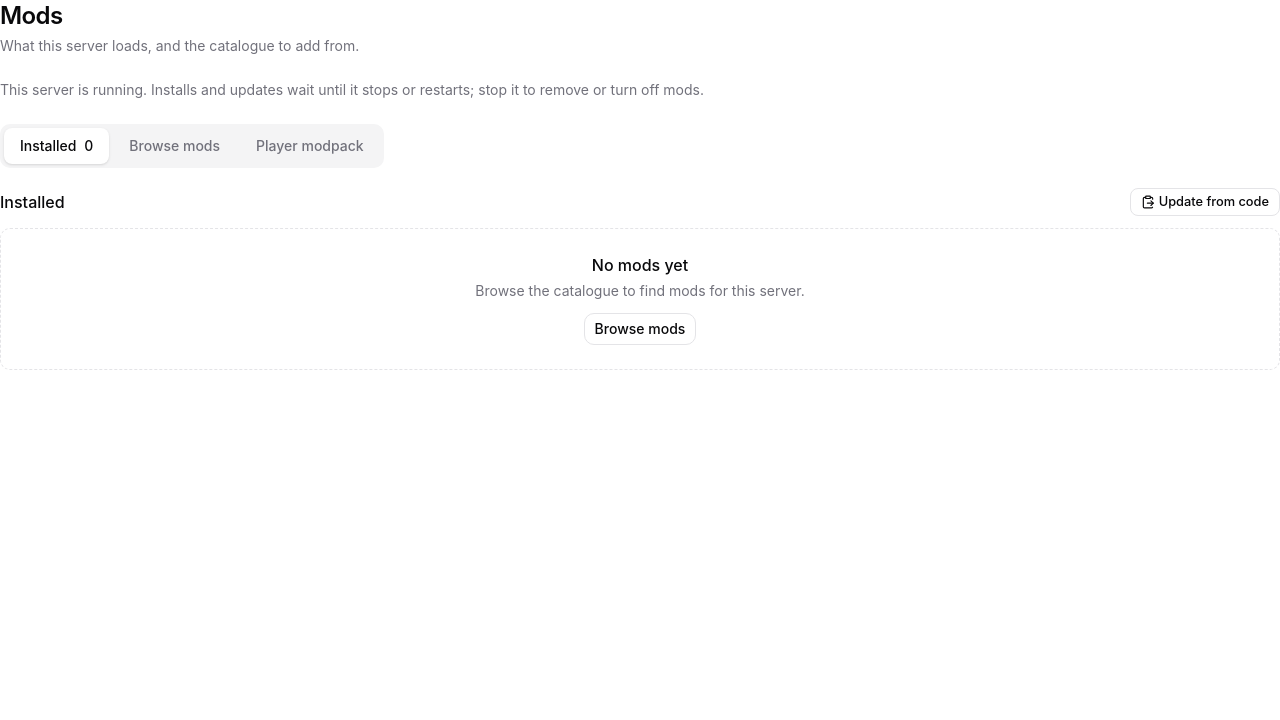
Test: the mod screen › queues an install on a running server
The width and height of the screenshot is (1280, 720).
Click the tab "Browse mods": click(175, 146) [113, 128, 236, 164]
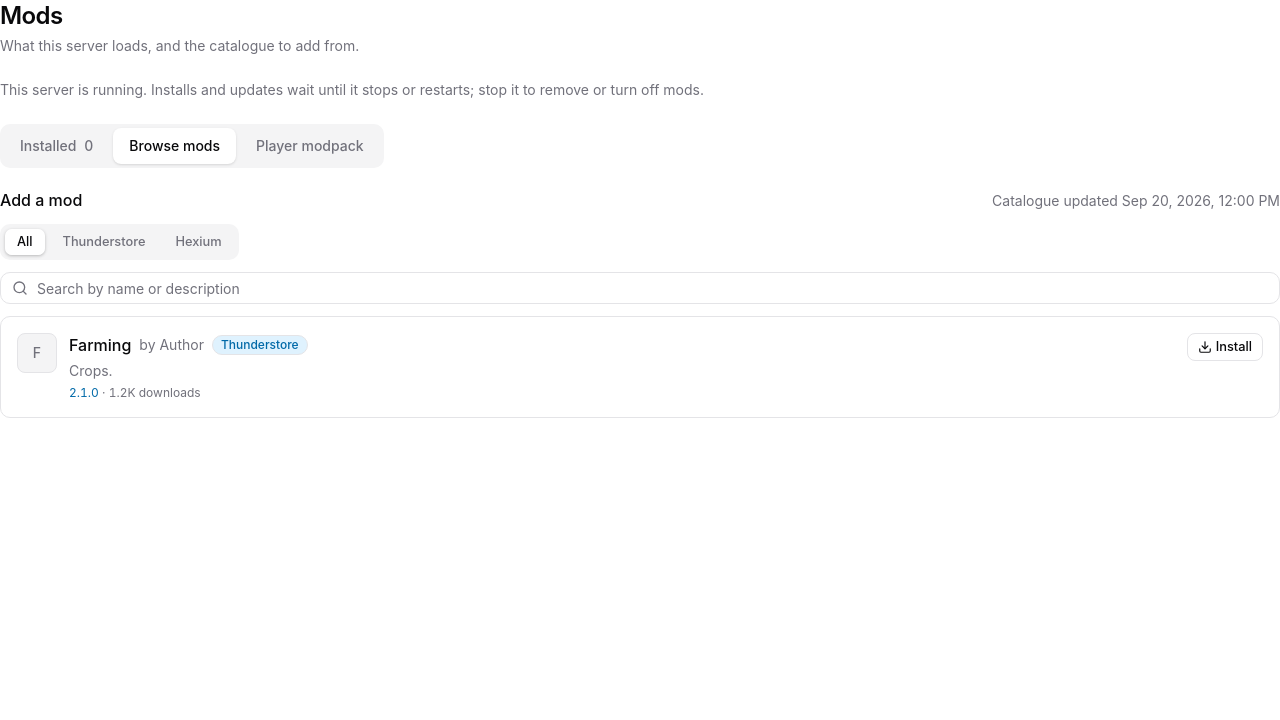
Click the button "Install": click(1225, 347) [1187, 333, 1263, 361]
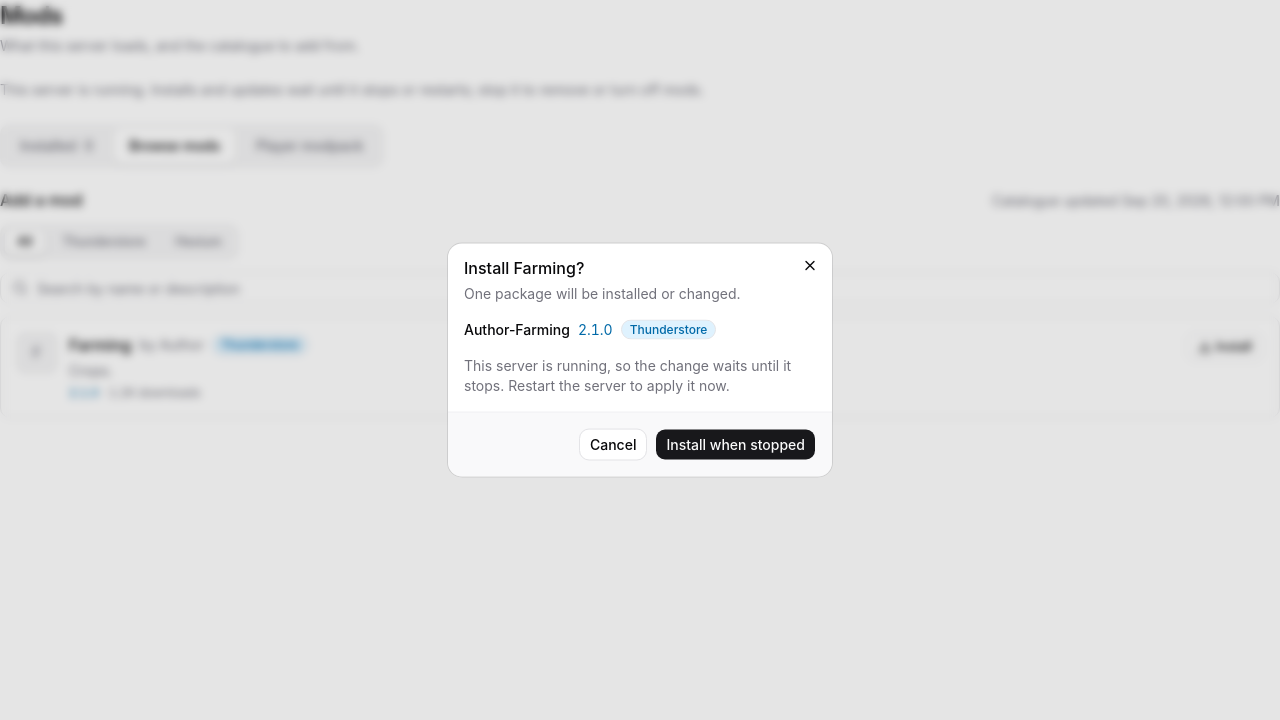
Now the text with test id "queue-notice" is shown, box [464, 356, 816, 396]
Click the button "Install when stopped": click(736, 444) [655, 428, 816, 460]
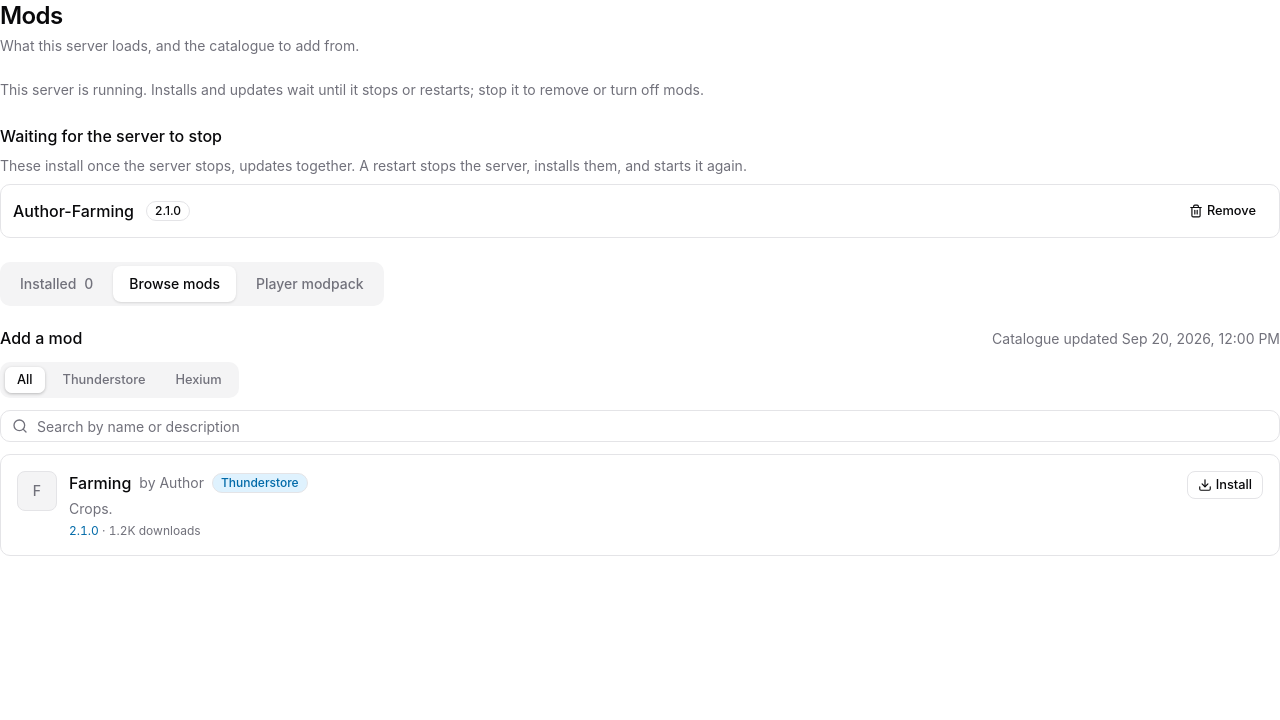
Now the element with test id "mod-queue" shows "Author-Farming", box [13, 201, 134, 221]
